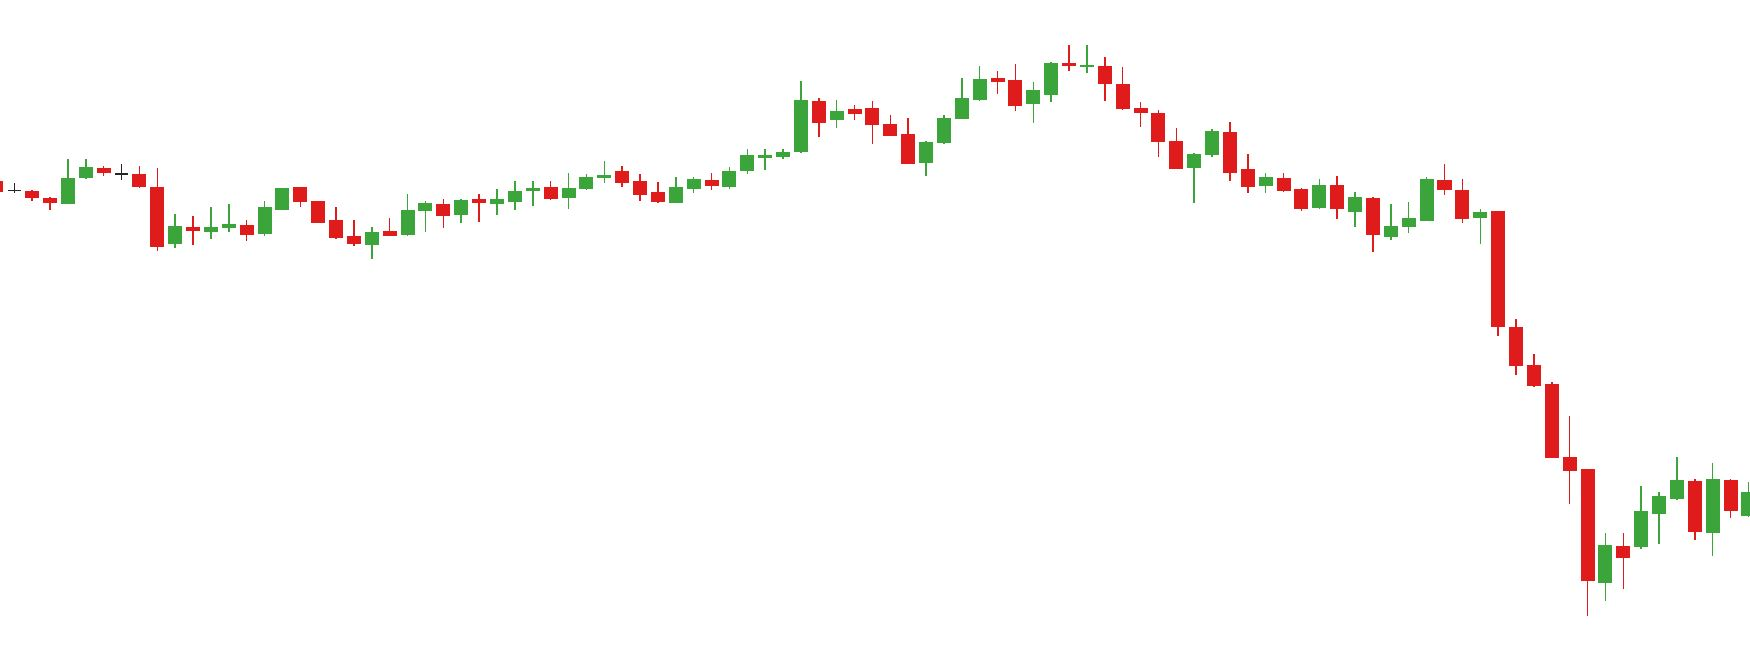sell: (1330, 166, 1452, 218)
